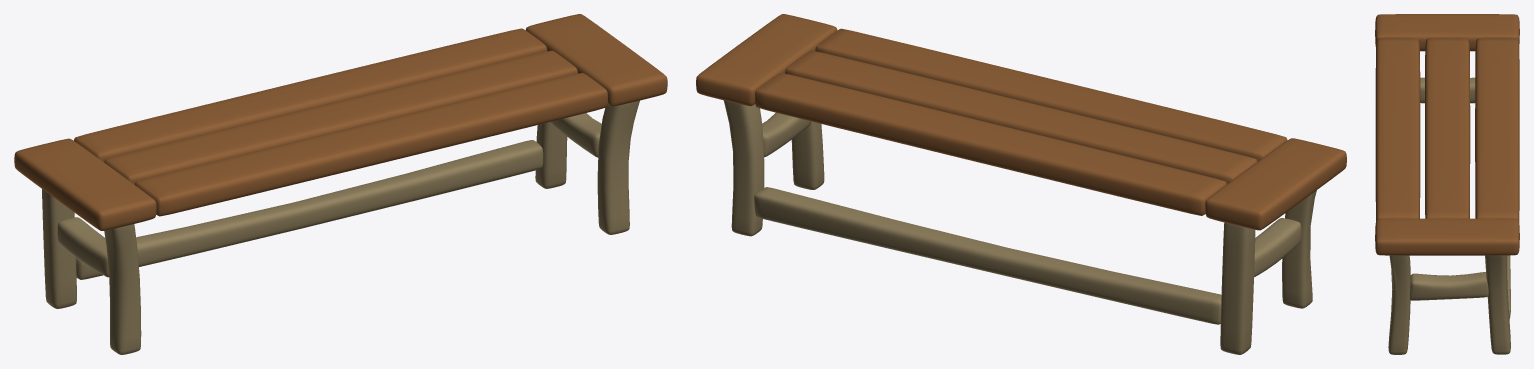
Rendered from Bench.glb.
The picture shows the model from 3 angles, left to right: view 1: azimuth 30°, elevation 25°; view 2: azimuth 150°, elevation 25°; view 3: azimuth 270°, elevation 25°; orthographic projection. The views are drawn at different scales.
Visible parts, largest first — view 1: Bench; view 2: Bench; view 3: Bench.
Part boxes in pixels (x1,y1,x2,y2): Bench: (14, 14, 667, 354); Bench: (696, 14, 1346, 354); Bench: (1375, 14, 1519, 354).
Size of the model in its own units: 1 by 0.2624 by 0.2679.
